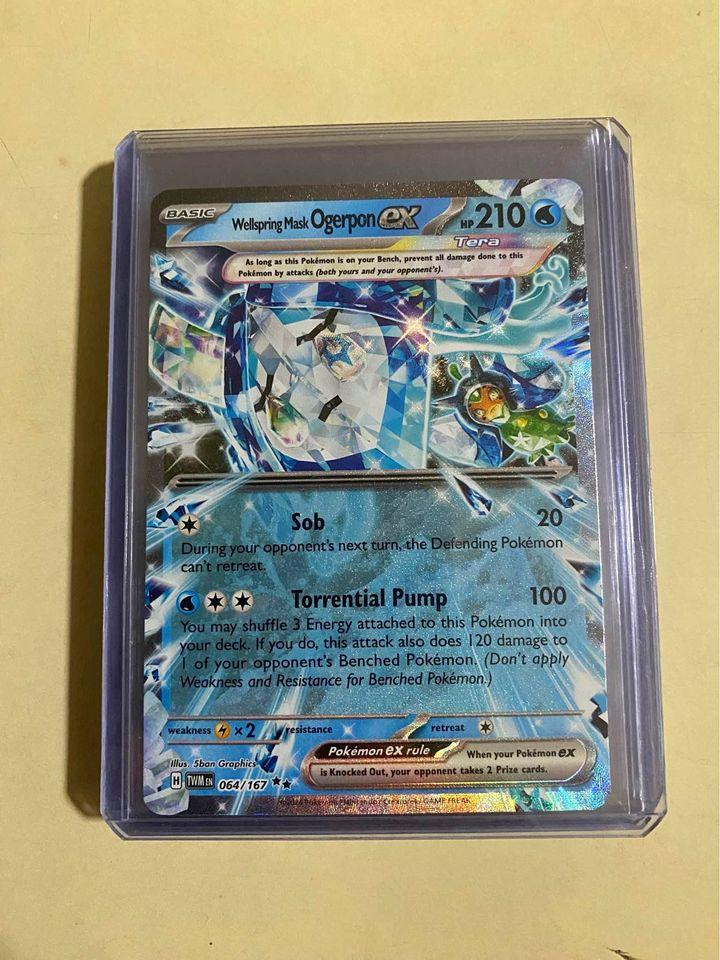card: (139, 174, 615, 818)
